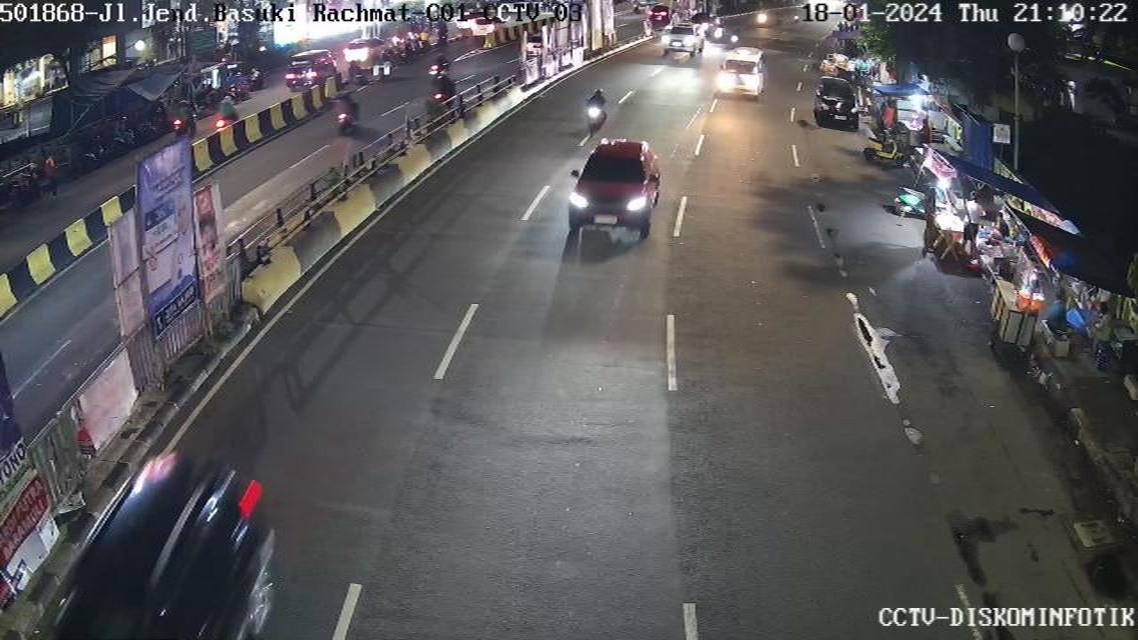Gerobak: (990, 246, 1047, 356)
